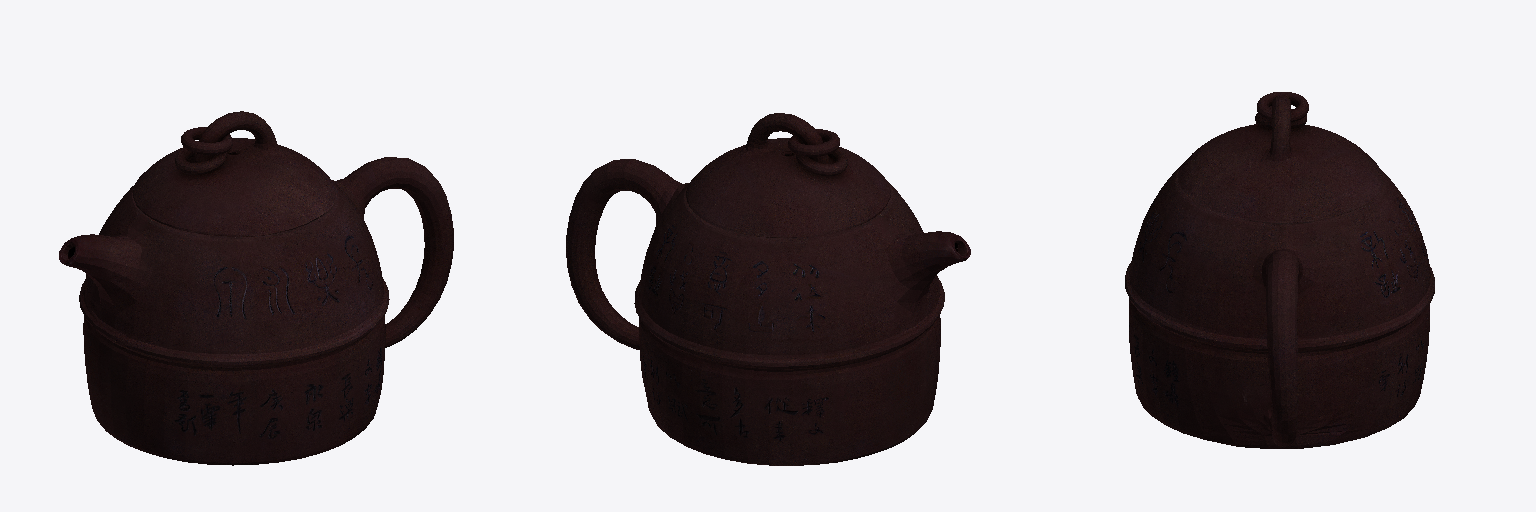
3 views of the same model, side by side, from view 1: azimuth 30°, elevation 25°; view 2: azimuth 150°, elevation 25°; view 3: azimuth 270°, elevation 25° (orthographic).
Visible parts, largest first — view 1: __________________________, __________________________1; view 2: __________________________, __________________________1; view 3: __________________________, __________________________1.
Boxes of the visible parts, x1=… form: __________________________: x1=59, y1=157, x2=453, y2=465; __________________________1: x1=133, y1=111, x2=337, y2=236; __________________________: x1=566, y1=159, x2=970, y2=465; __________________________1: x1=686, y1=113, x2=890, y2=237; __________________________: x1=1125, y1=106, x2=1434, y2=448; __________________________1: x1=1178, y1=92, x2=1383, y2=222.
Bounding box in the file's own units: 181 × 129 × 123.
Materials: 3 (3 with a texture image).